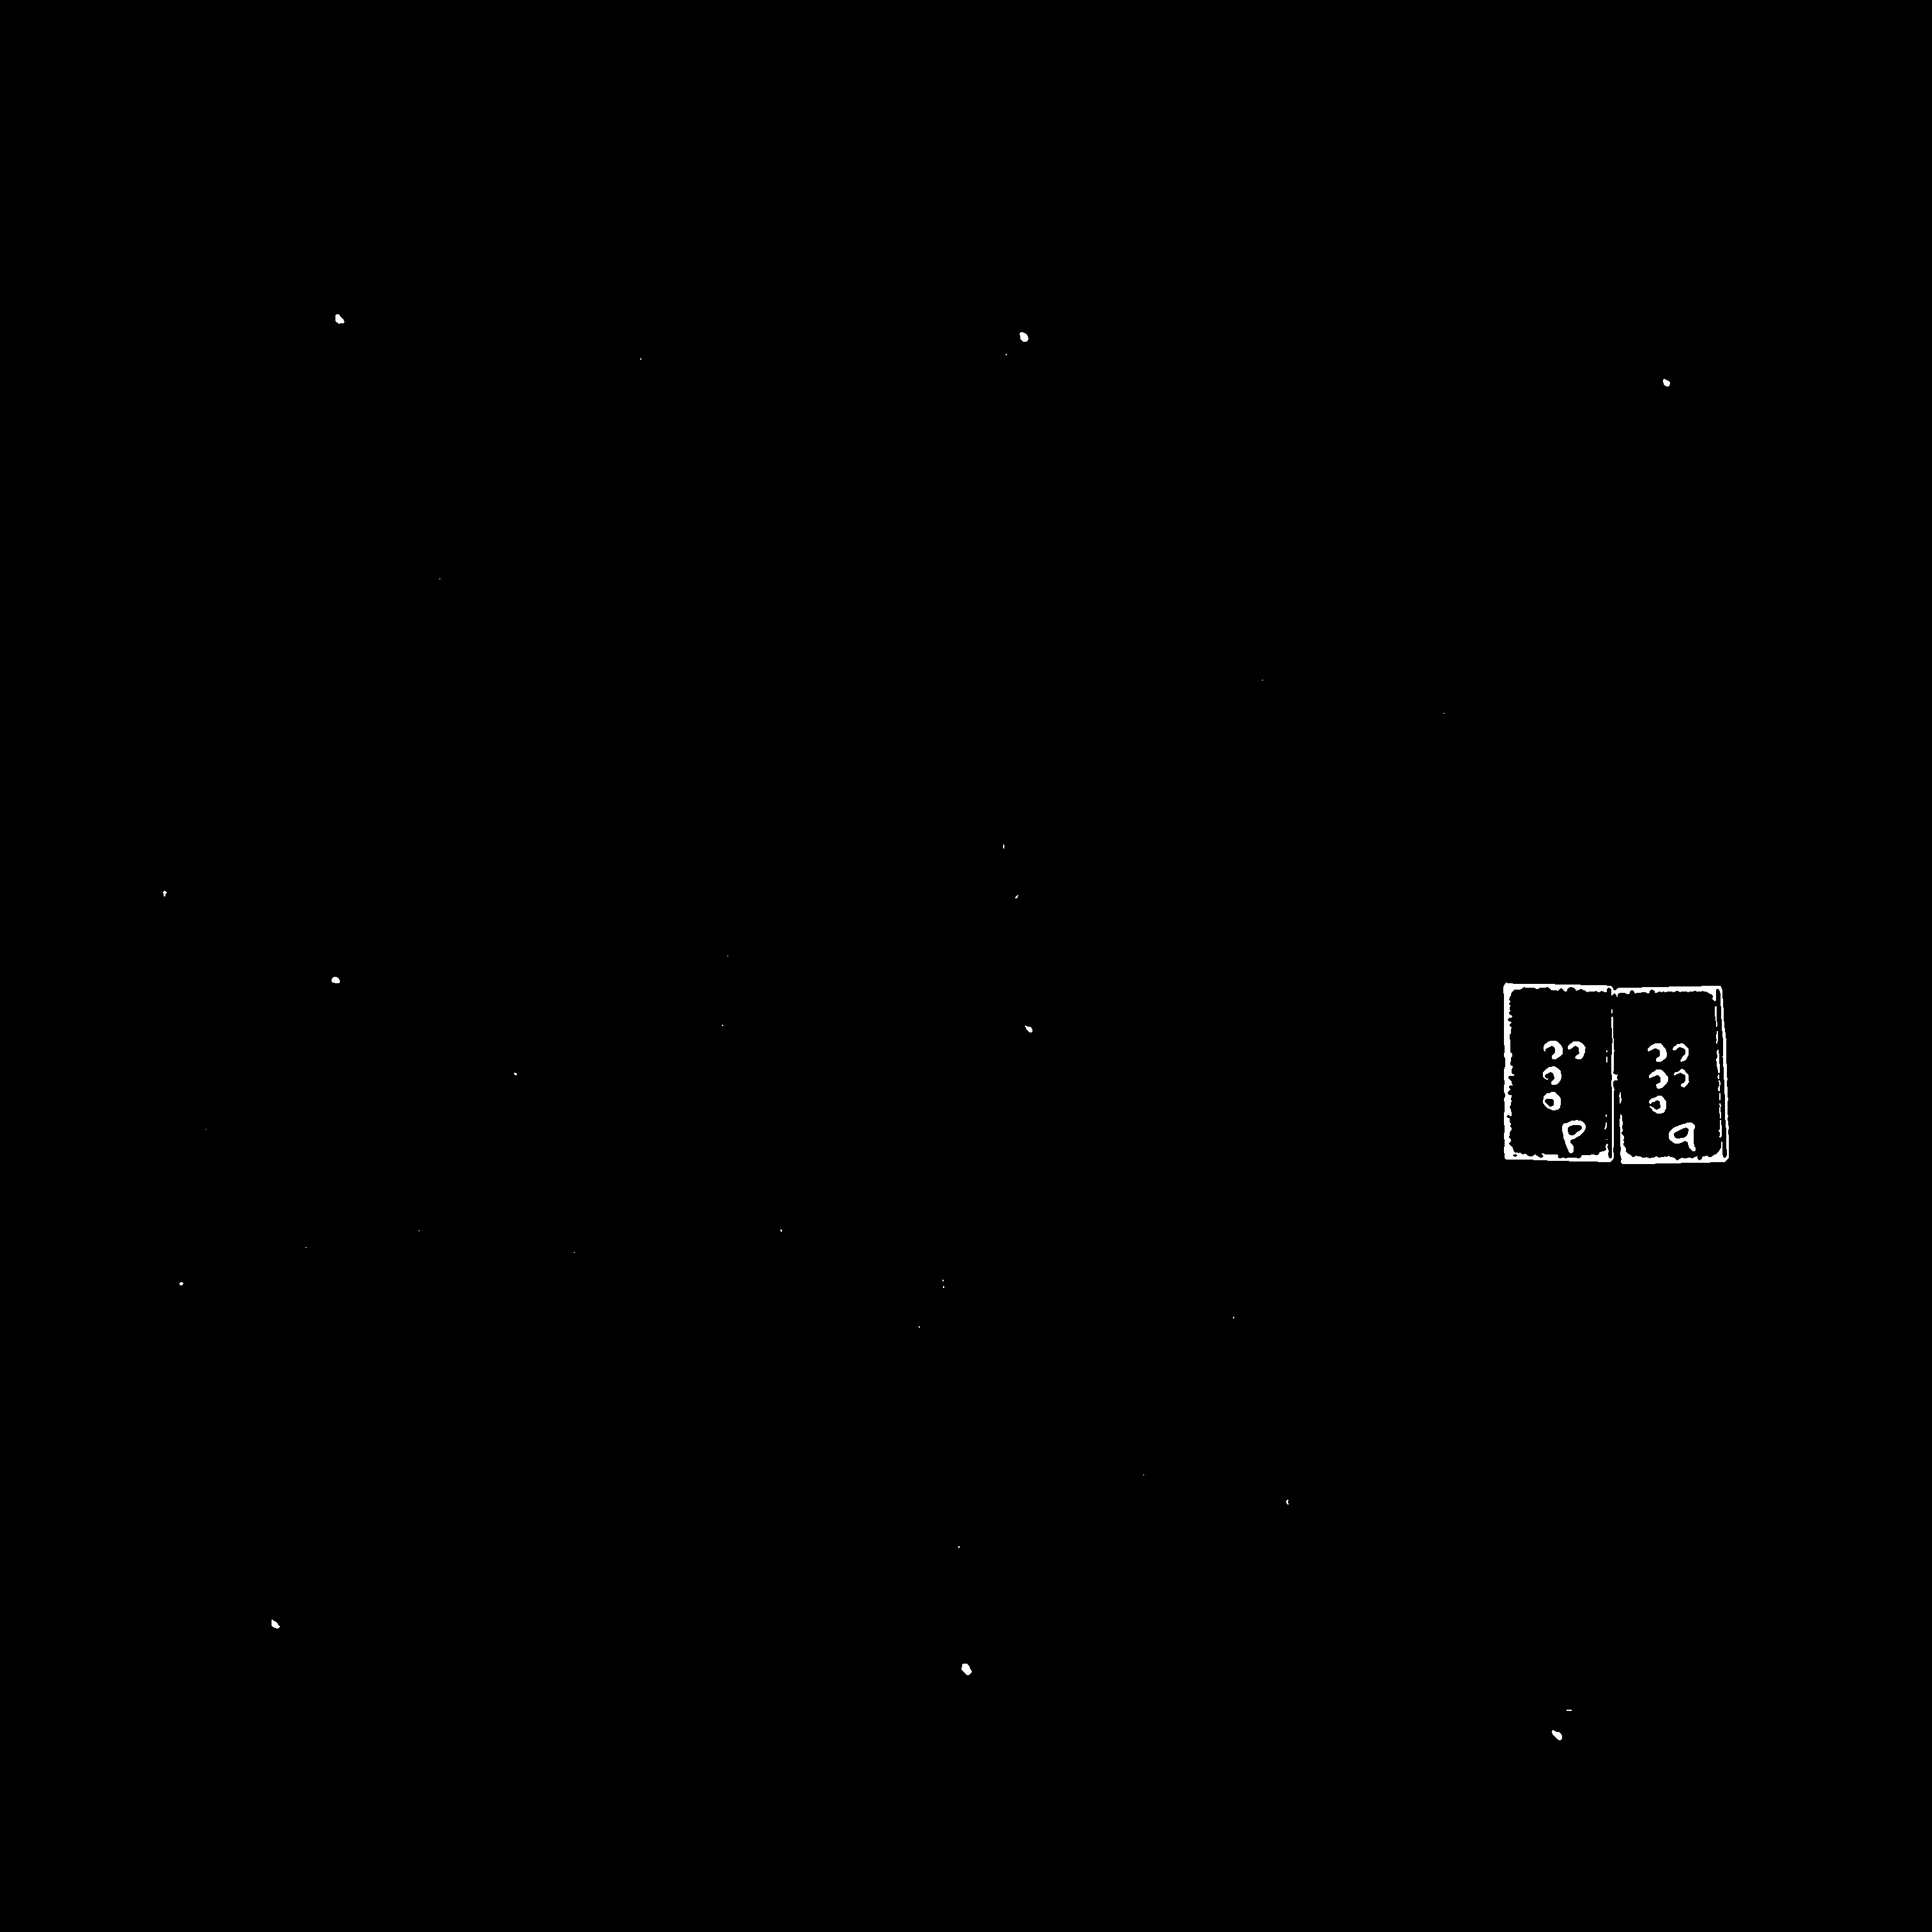p: (1529, 1022, 1597, 1131)
q: (1640, 1030, 1708, 1124)
